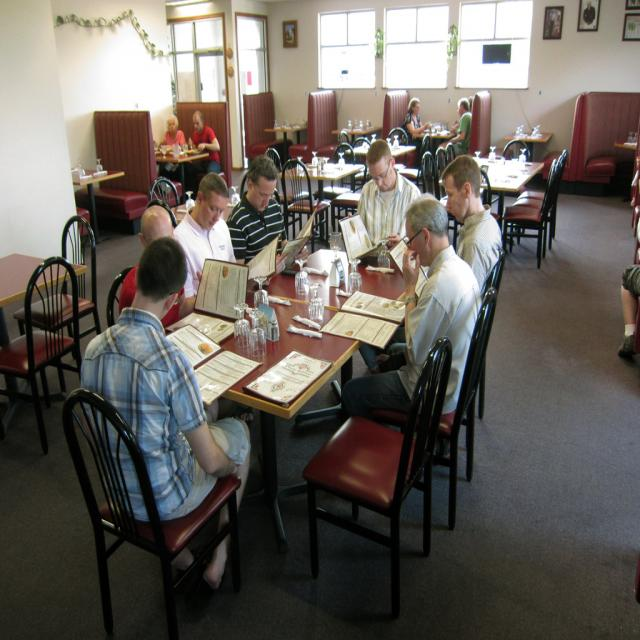chair: (62, 388, 244, 639), (302, 338, 452, 618), (428, 254, 504, 532), (0, 254, 79, 457), (502, 150, 568, 268), (61, 214, 101, 364), (281, 158, 330, 244), (106, 268, 128, 328)
desk: (184, 254, 393, 603)
laptop: (166, 257, 250, 346)
person: (81, 240, 251, 527), (341, 196, 481, 426), (227, 155, 314, 280), (439, 155, 504, 291), (116, 202, 186, 324), (172, 172, 237, 298), (358, 139, 420, 247), (439, 98, 472, 162), (160, 115, 188, 150)
